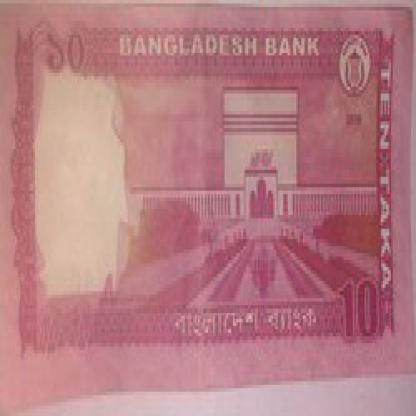Ten Taka: (335, 274, 381, 347), (41, 28, 92, 76)
